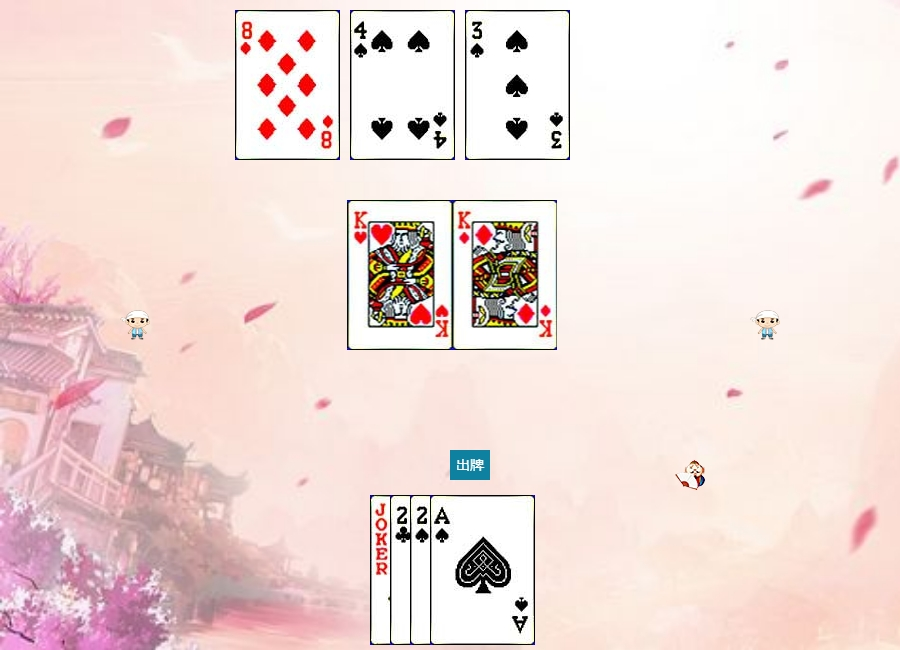13~1: (453, 200, 558, 350)
13~3: (348, 200, 453, 350)
14~4: (430, 495, 535, 645)
15~2: (390, 495, 495, 645)
15~4: (410, 495, 515, 645)
18~4: (370, 495, 475, 645)
3~4: (465, 10, 570, 160)
4~4: (350, 10, 455, 160)
8~1: (235, 10, 340, 160)
